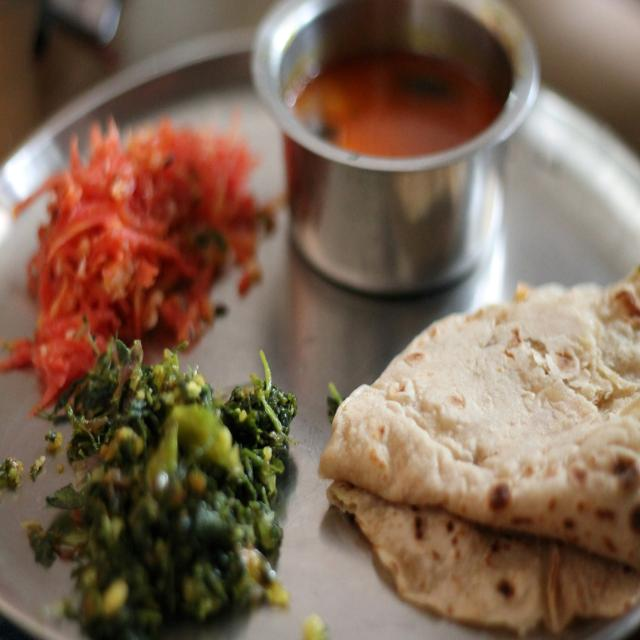Chapati: (341, 274, 640, 620)
Dal: (273, 0, 528, 283)
Hari Bhaji: (63, 338, 289, 626)
Salad: (35, 120, 256, 338)
